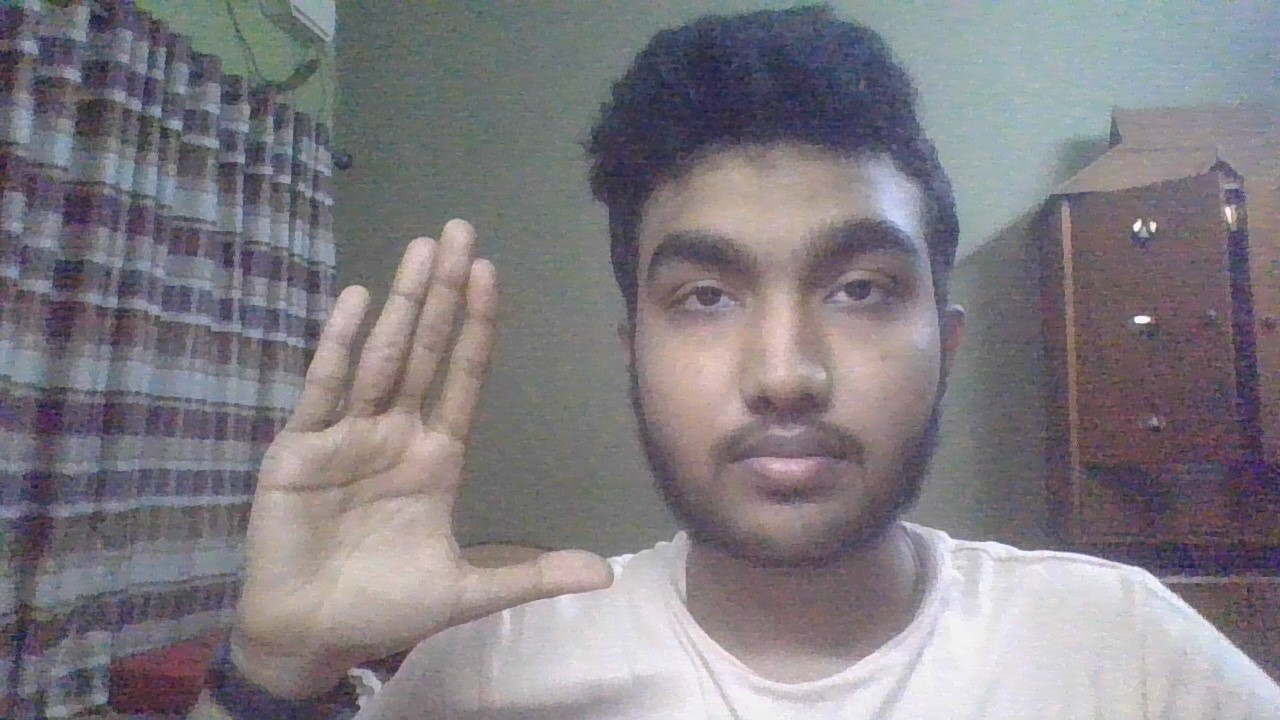Hello: (230, 217, 620, 651)
